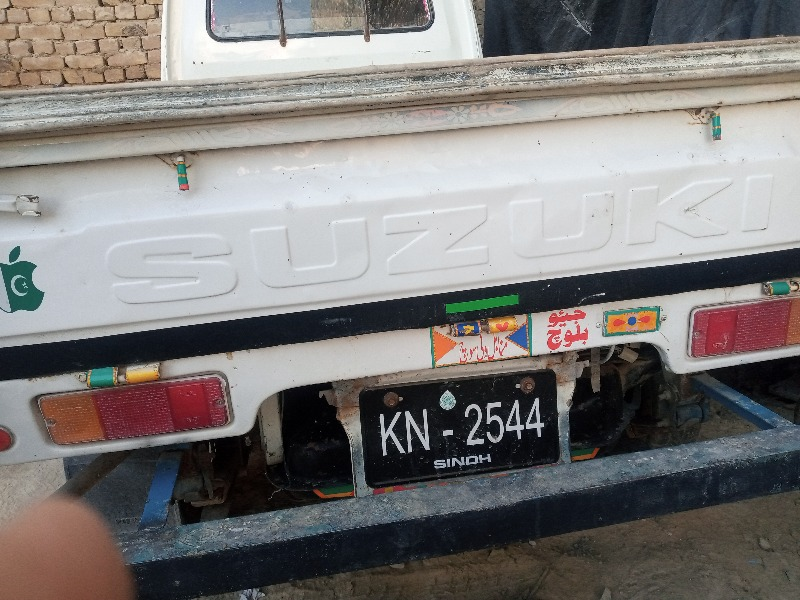License Plate: (356, 369, 559, 484)
